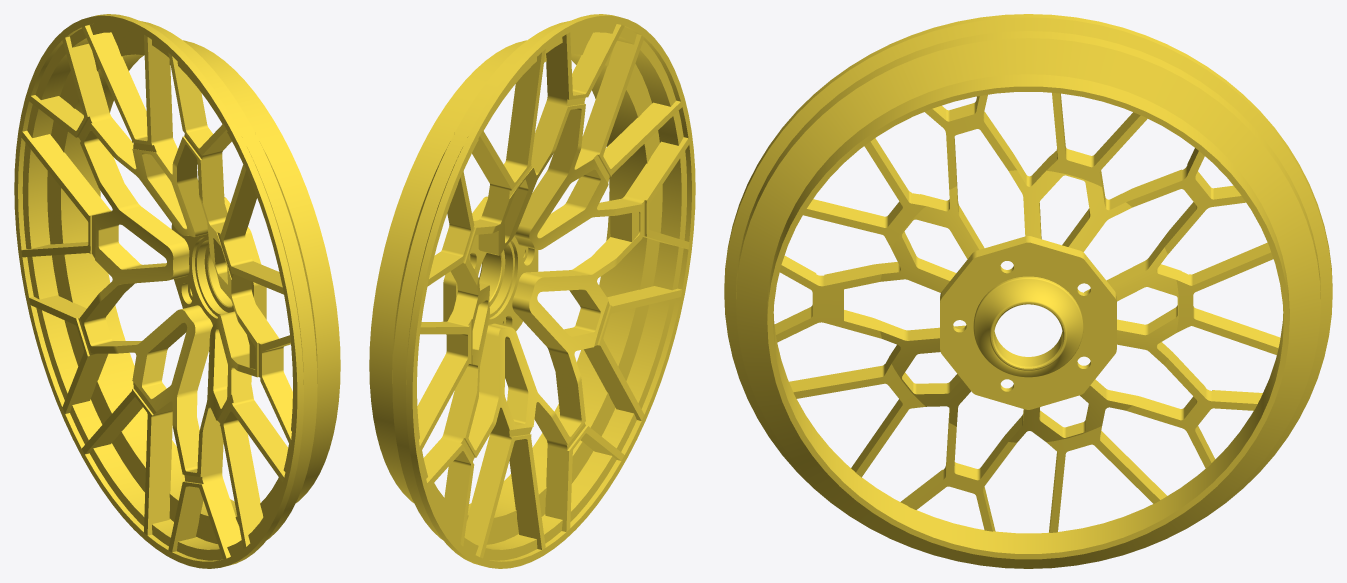
File: bmw CS rim.glb
3 renders of one model, left to right at view 1: azimuth 30°, elevation 25°; view 2: azimuth 150°, elevation 25°; view 3: azimuth 270°, elevation 25°, orthographic. The views are drawn at different scales.
Visible parts, largest first — view 1: Part 1; view 2: Part 1; view 3: Part 1.
Boxes of the visible parts, x1,y1,x2,y2 form: Part 1: [14, 14, 340, 568]; Part 1: [369, 14, 695, 568]; Part 1: [724, 14, 1332, 568].
Bounding box in the file's own units: 0.056 × 0.31 × 0.31.
